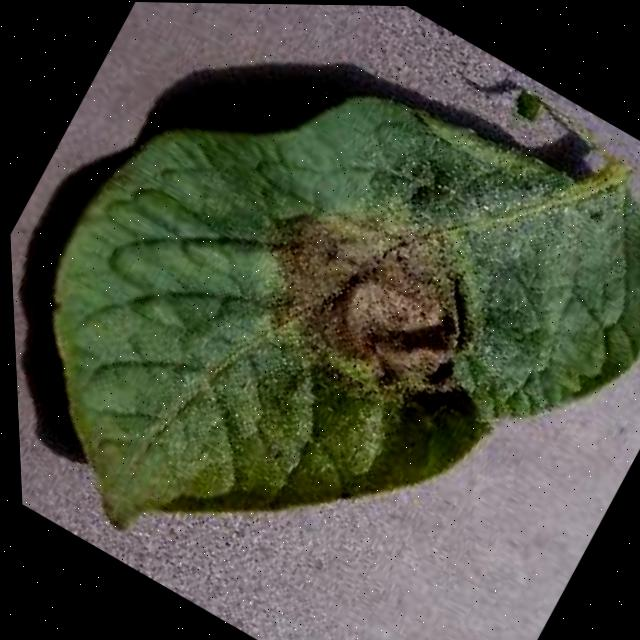Late_blight: (198, 154, 533, 459)
